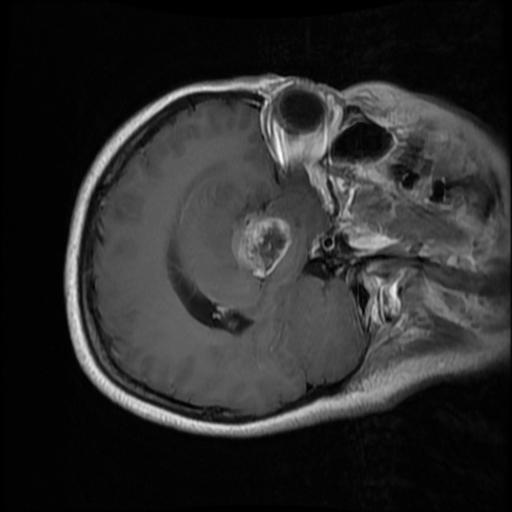glioma: (231, 213, 292, 278)
